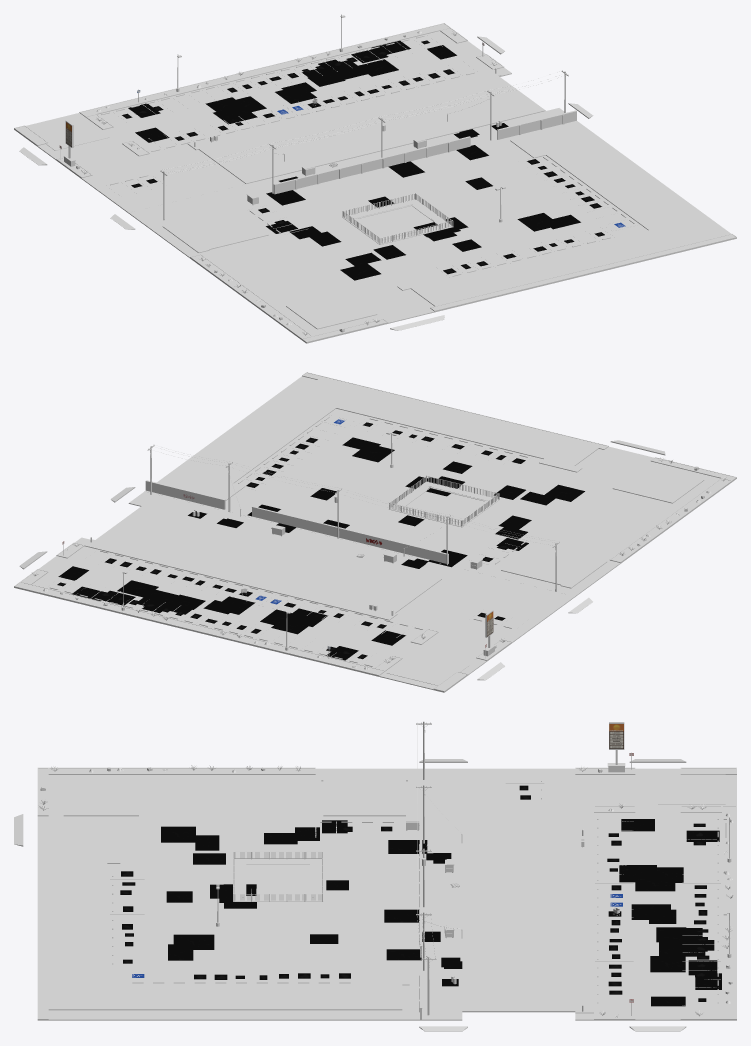
Rendered from WG01_Site.fbx.
3 renders of one model, top to bottom at view 1: azimuth 30°, elevation 25°; view 2: azimuth 150°, elevation 25°; view 3: azimuth 270°, elevation 25°, orthographic. The views are drawn at different scales.
Visible parts, largest first — view 1: WG01_Site.Paving__Asphalt_58585A, WG01_Site.Slabs__Concrete_BDB6A8, WG01_Site.Landscape__Pebble_9E6A4C, WG01_Site.Wear__Decal_decal_cracks_0, WG01_Site.Alley__Concrete_A39D91, WG01_Site.Landscape__Concrete_A9A397, WG01_Site.Wear__Decal_decal_cracks_1, WG01_Site.BlockWall__Concrete_B5AE9F, WG01_Site.Wear__Decal_decal_cracks_2, WG01_Site.Striping__SmoothPlastic_E6E3D8, WG01_Site.Pool__Metal_2E2E2E, WG01_Site.Pool__Concrete_BDB6A8 (+6 smaller); view 2: WG01_Site.Paving__Asphalt_58585A, WG01_Site.Slabs__Concrete_BDB6A8, WG01_Site.Alley__Concrete_A39D91, WG01_Site.Landscape__Pebble_9E6A4C, WG01_Site.Wear__Decal_decal_cracks_0, WG01_Site.Landscape__Concrete_A9A397, WG01_Site.BlockWall__Concrete_B5AE9F, WG01_Site.Wear__Decal_decal_cracks_2, WG01_Site.Wear__Decal_decal_cracks_1, WG01_Site.Striping__SmoothPlastic_E6E3D8, WG01_Site.Pool__Metal_2E2E2E, WG01_Site.Pool__Concrete_BDB6A8 (+7 smaller); view 3: WG01_Site.Paving__Asphalt_58585A, WG01_Site.Slabs__Concrete_BDB6A8, WG01_Site.Alley__Concrete_A39D91, WG01_Site.Landscape__Pebble_9E6A4C, WG01_Site.Wear__Decal_decal_cracks_0, WG01_Site.Wear__Decal_decal_cracks_1, WG01_Site.Wear__Decal_decal_cracks_2, WG01_Site.Landscape__Concrete_A9A397, WG01_Site.Striping__SmoothPlastic_E6E3D8, WG01_Site.Pool__Concrete_BDB6A8, WG01_Site.Striping__Decal_decal_oil_2, WG01_Site.Aprons__Concrete_BDB6A8 (+7 smaller).
Part boxes in pixels (<box>): WG01_Site.Paving__Asphalt_58585A: <box>14,31,736,343</box>; WG01_Site.Slabs__Concrete_BDB6A8: <box>30,69,715,329</box>; WG01_Site.Landscape__Pebble_9E6A4C: <box>16,24,734,341</box>; WG01_Site.Wear__Decal_decal_cracks_0: <box>128,45,559,280</box>; WG01_Site.Alley__Concrete_A39D91: <box>128,108,564,224</box>; WG01_Site.Landscape__Concrete_A9A397: <box>14,23,736,342</box>; WG01_Site.Wear__Decal_decal_cracks_1: <box>135,40,580,237</box>; WG01_Site.BlockWall__Concrete_B5AE9F: <box>273,111,576,194</box>; WG01_Site.Wear__Decal_decal_cracks_2: <box>213,60,508,265</box>; WG01_Site.Striping__SmoothPlastic_E6E3D8: <box>105,34,638,277</box>; WG01_Site.Pool__Metal_2E2E2E: <box>342,193,453,244</box>; WG01_Site.Pool__Concrete_BDB6A8: <box>342,199,453,244</box>; WG01_Site.Paving__Asphalt_58585A: <box>14,376,736,692</box>; WG01_Site.Slabs__Concrete_BDB6A8: <box>84,379,704,685</box>; WG01_Site.Alley__Concrete_A39D91: <box>128,491,574,608</box>; WG01_Site.Landscape__Pebble_9E6A4C: <box>15,373,735,690</box>; WG01_Site.Wear__Decal_decal_cracks_0: <box>58,443,584,660</box>; WG01_Site.Landscape__Concrete_A9A397: <box>14,372,736,692</box>; WG01_Site.BlockWall__Concrete_B5AE9F: <box>145,481,448,563</box>; WG01_Site.Wear__Decal_decal_cracks_2: <box>138,476,555,626</box>; WG01_Site.Wear__Decal_decal_cracks_1: <box>72,437,528,645</box>; WG01_Site.Striping__SmoothPlastic_E6E3D8: <box>45,415,532,664</box>; WG01_Site.Pool__Metal_2E2E2E: <box>389,475,499,526</box>; WG01_Site.Pool__Concrete_BDB6A8: <box>388,481,499,527</box>; WG01_Site.Paving__Asphalt_58585A: <box>37,768,736,1020</box>; WG01_Site.Slabs__Concrete_BDB6A8: <box>48,773,725,1013</box>; WG01_Site.Alley__Concrete_A39D91: <box>425,768,462,1020</box>; WG01_Site.Landscape__Pebble_9E6A4C: <box>38,768,735,1018</box>; WG01_Site.Wear__Decal_decal_cracks_0: <box>161,826,719,1006</box>; WG01_Site.Wear__Decal_decal_cracks_1: <box>168,819,721,989</box>; WG01_Site.Wear__Decal_decal_cracks_2: <box>195,827,705,986</box>; WG01_Site.Landscape__Concrete_A9A397: <box>37,767,736,1019</box>; WG01_Site.Striping__SmoothPlastic_E6E3D8: <box>110,774,720,1005</box>; WG01_Site.Pool__Concrete_BDB6A8: <box>233,858,323,901</box>; WG01_Site.Striping__Decal_decal_oil_2: <box>121,785,708,994</box>; WG01_Site.Aprons__Concrete_BDB6A8: <box>14,759,686,1031</box>.
Size of the model in its own units: 343 by 39.8 by 385.
Materials: 65 (12 with a texture image).
